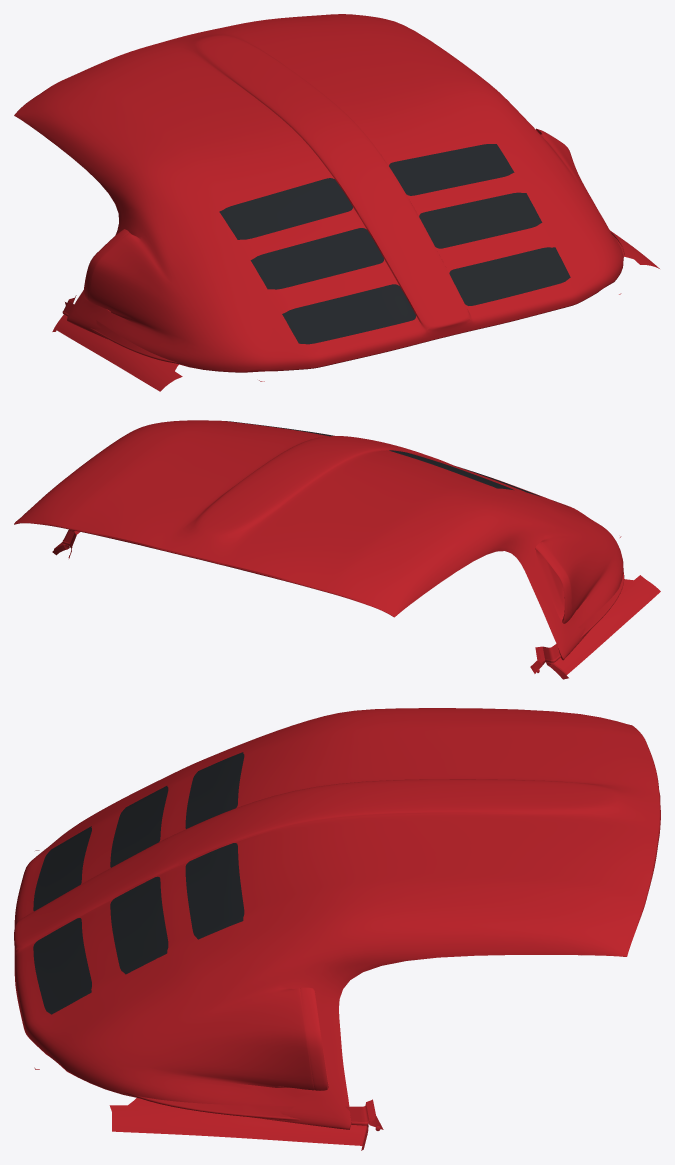
3 views of the same model, one above another, from view 1: azimuth 30°, elevation 25°; view 2: azimuth 150°, elevation 25°; view 3: azimuth 270°, elevation 25° (orthographic). The views are drawn at different scales.
Parts seen in each view (by area): view 1: Miata_Aero_RoofPC, Miata_Roof_Mount_RoofPC; view 2: Miata_Aero_RoofPC, Miata_Roof_Mount_RoofPC; view 3: Miata_Aero_RoofPC, Miata_Roof_Mount_RoofPC.
Boxes of the visible parts, x1,y1,x2,y2 form: Miata_Aero_RoofPC: (14, 14, 623, 372); Miata_Roof_Mount_RoofPC: (52, 230, 659, 391); Miata_Aero_RoofPC: (14, 420, 623, 660); Miata_Roof_Mount_RoofPC: (52, 529, 660, 679); Miata_Aero_RoofPC: (14, 708, 660, 1129); Miata_Roof_Mount_RoofPC: (34, 850, 383, 1150).
Size of the model in its own units: 62.44 by 18.78 by 54.24.
